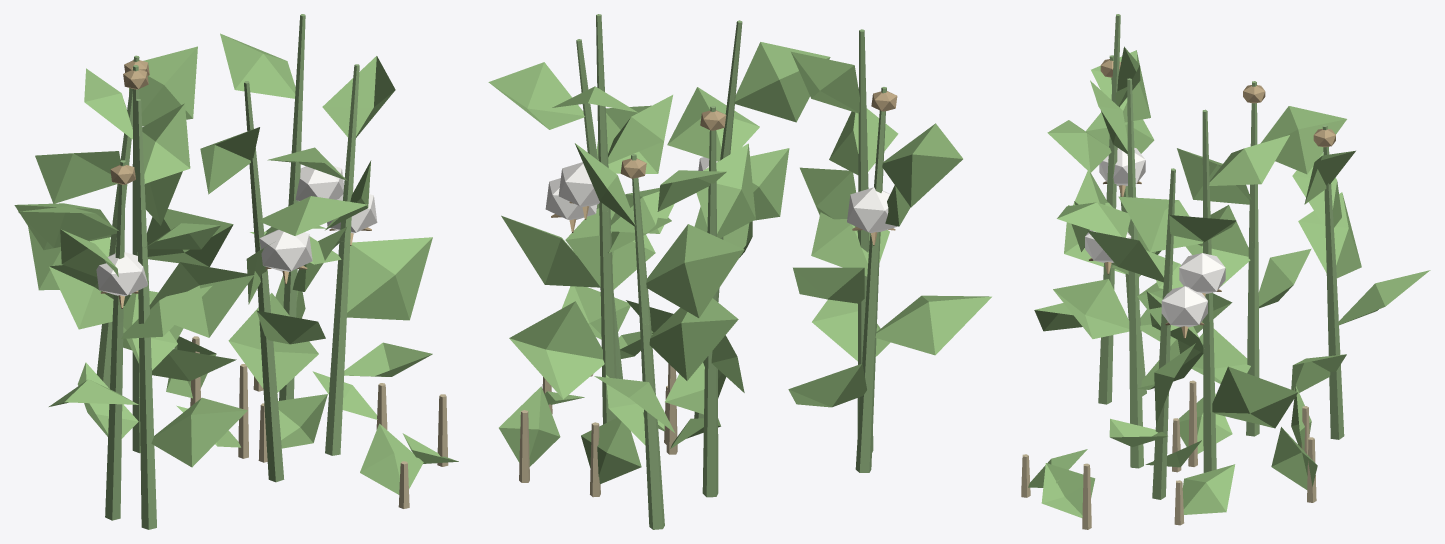
The model's file is plant-cotton-b.glb.
3 renders of one model, left to right at view 1: azimuth 30°, elevation 25°; view 2: azimuth 150°, elevation 25°; view 3: azimuth 270°, elevation 25°, orthographic. The views are drawn at different scales.
Visible parts, largest first — view 1: plant-cotton-b_full_leafB, plant-cotton-b_full_stemGreen, plant-cotton-b_low_leafB, plant-cotton-b_fruit_cottonWhite, plant-cotton-b_low_stemDry, plant-cotton-b_fruit_cottonBract; view 2: plant-cotton-b_full_leafB, plant-cotton-b_full_stemGreen, plant-cotton-b_low_leafB, plant-cotton-b_fruit_cottonWhite, plant-cotton-b_low_stemDry, plant-cotton-b_fruit_cottonBract; view 3: plant-cotton-b_full_leafB, plant-cotton-b_full_stemGreen, plant-cotton-b_low_leafB, plant-cotton-b_fruit_cottonWhite, plant-cotton-b_low_stemDry, plant-cotton-b_fruit_cottonBract.
Boxes of the visible parts, x1=… form: plant-cotton-b_full_leafB: x1=14, y1=33, x2=432, y2=467; plant-cotton-b_full_stemGreen: x1=97, y1=14, x2=359, y2=529; plant-cotton-b_low_leafB: x1=166, y1=336, x2=458, y2=494; plant-cotton-b_fruit_cottonWhite: x1=96, y1=165, x2=377, y2=296; plant-cotton-b_low_stemDry: x1=190, y1=336, x2=448, y2=508; plant-cotton-b_fruit_cottonBract: x1=100, y1=60, x2=371, y2=308; plant-cotton-b_full_leafB: x1=488, y1=42, x2=991, y2=445; plant-cotton-b_full_stemGreen: x1=576, y1=14, x2=886, y2=529; plant-cotton-b_low_leafB: x1=499, y1=330, x2=720, y2=484; plant-cotton-b_fruit_cottonWhite: x1=545, y1=157, x2=897, y2=232; plant-cotton-b_low_stemDry: x1=519, y1=363, x2=677, y2=497; plant-cotton-b_fruit_cottonBract: x1=551, y1=91, x2=897, y2=245; plant-cotton-b_full_leafB: x1=1034, y1=46, x2=1430, y2=447; plant-cotton-b_full_stemGreen: x1=1098, y1=14, x2=1344, y2=499; plant-cotton-b_low_leafB: x1=1028, y1=385, x2=1317, y2=517; plant-cotton-b_fruit_cottonWhite: x1=1085, y1=148, x2=1225, y2=327; plant-cotton-b_low_stemDry: x1=1021, y1=380, x2=1316, y2=529; plant-cotton-b_fruit_cottonBract: x1=1089, y1=59, x2=1335, y2=338.
Size of the model in its own units: 1.04 by 0.9675 by 0.9312.
